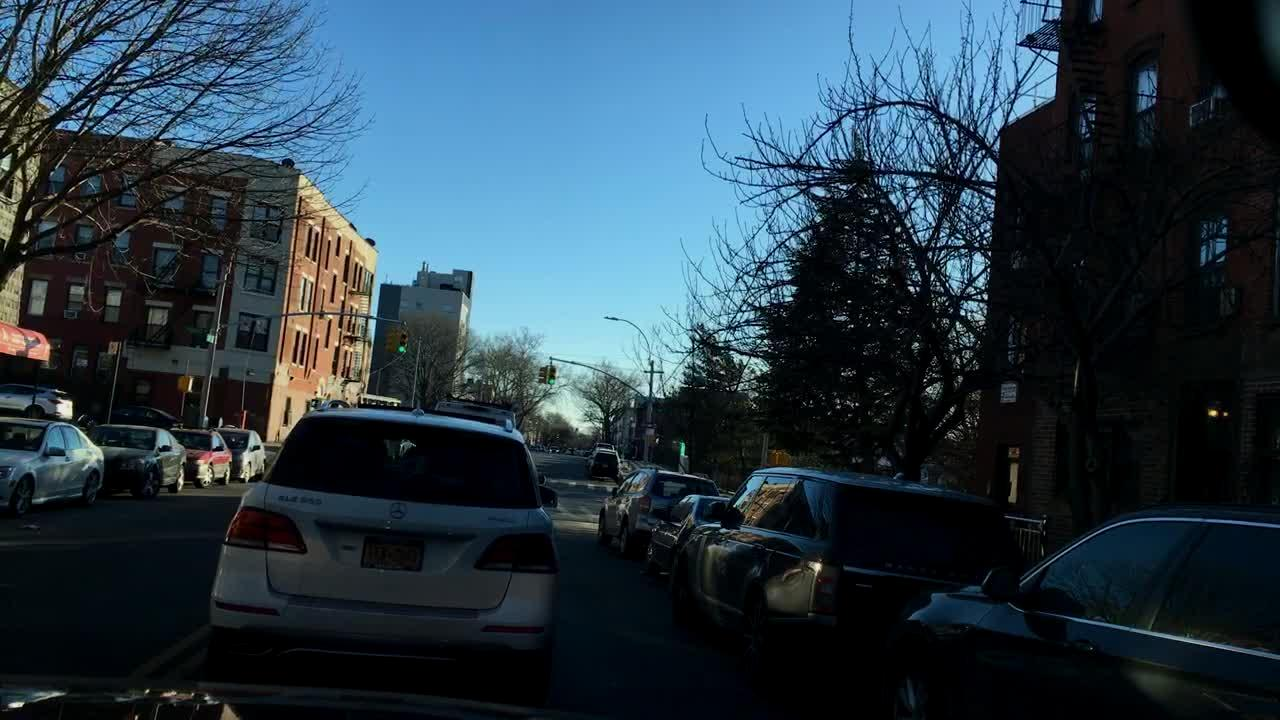Mercedes: (384, 497, 408, 522)
